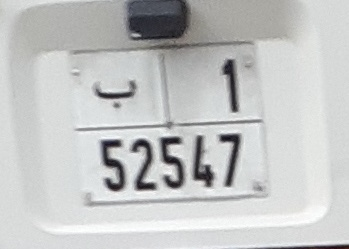1: (213, 55, 244, 118)
2: (129, 134, 159, 192)
4: (190, 131, 218, 190)
5: (96, 137, 127, 194), (159, 132, 187, 191)
7: (216, 128, 247, 191)
b: (89, 76, 145, 114)
